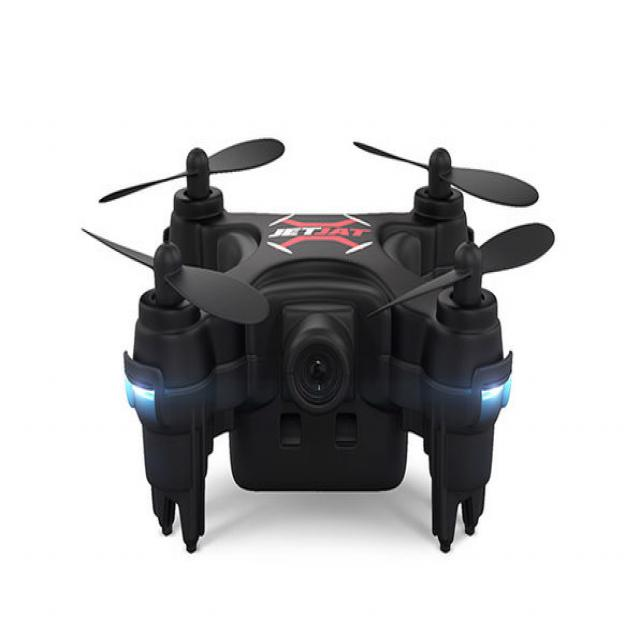drones: (74, 127, 566, 560)
